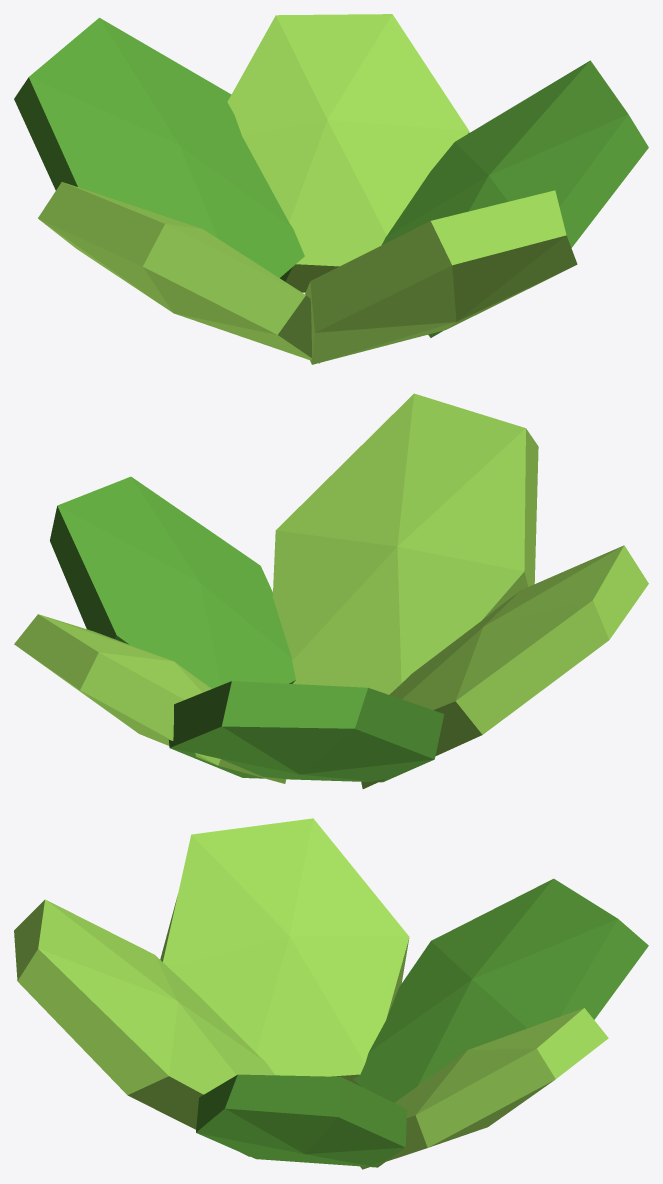
Rendered from lettuce_2.obj.
The picture shows the model from 3 angles, top to bottom: view 1: azimuth 30°, elevation 25°; view 2: azimuth 150°, elevation 25°; view 3: azimuth 270°, elevation 25°; orthographic projection. The views are drawn at different scales.
Parts seen in each view (by area): view 1: plant; view 2: plant; view 3: plant.
Boxes of the visible parts, box(x1,y1,x2,y2) form: plant: box(14, 14, 648, 364); plant: box(14, 393, 648, 788); plant: box(14, 818, 648, 1169).
Bounding box in the file's own units: 0.2581 × 0.1031 × 0.2755.
